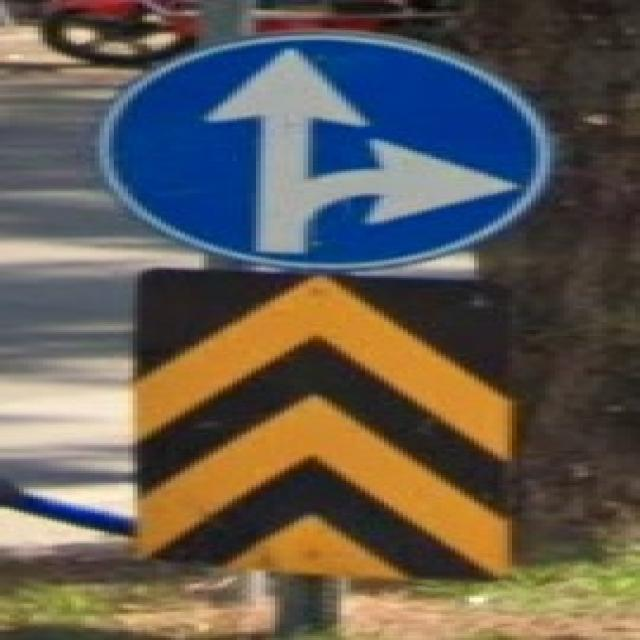Straight or Right: (99, 35, 535, 267)
